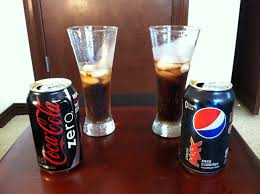can: (24, 65, 84, 178), (183, 81, 231, 183)
